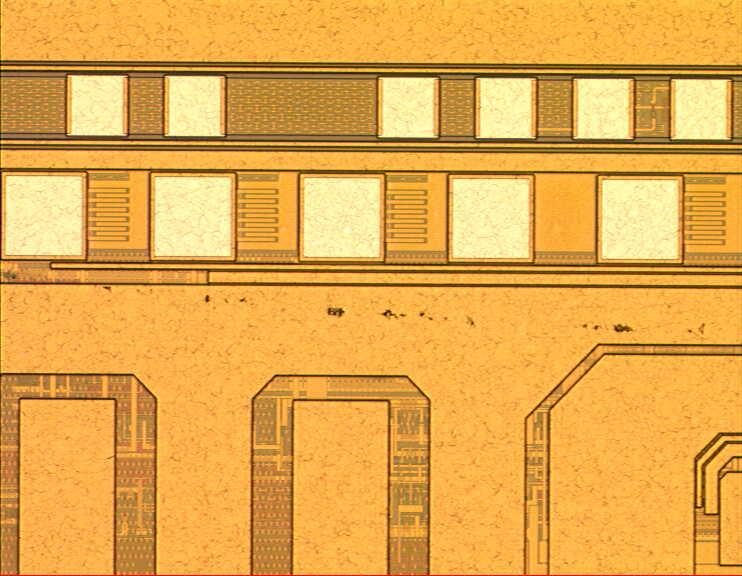SCRATCH: (97, 282, 715, 341)
